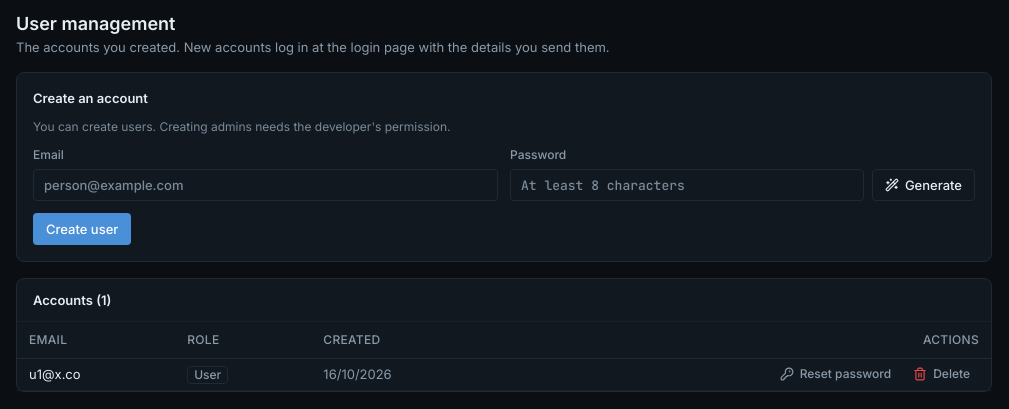
UserManagementPage › deletes an account after confirming
The image size is (1009, 409).
Click the button with aria-label "Delete u1@x.co": [942, 374] box [904,360,979,388]
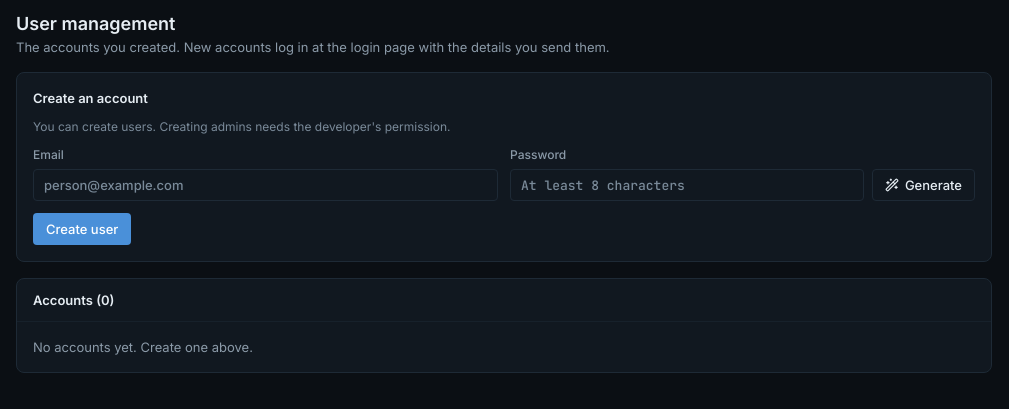
Expected: the text "No accounts yet. Create one above." is shown, [33,339,253,355]
